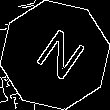N_SW: (24, 23, 86, 87)
